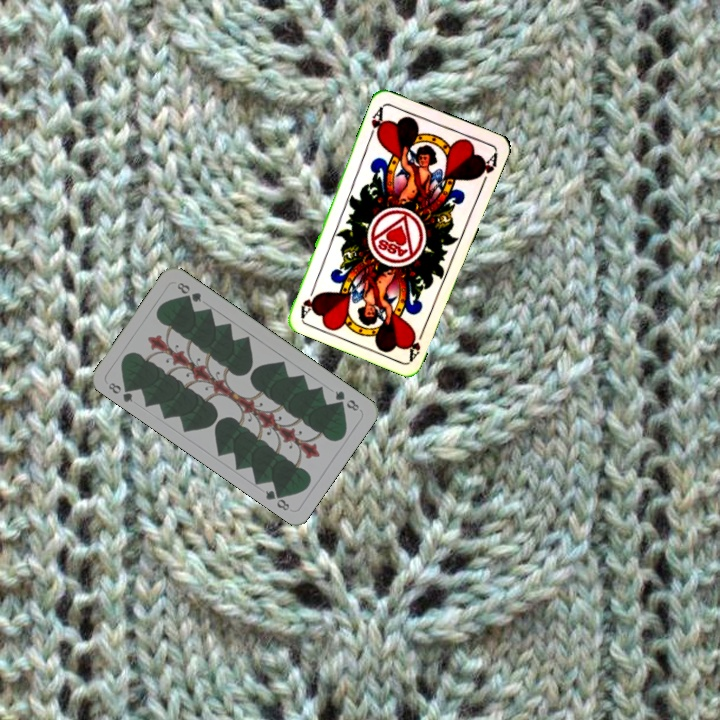G8: (331, 386, 362, 414), (104, 378, 136, 405)
HA: (403, 323, 428, 362), (365, 102, 387, 142)
